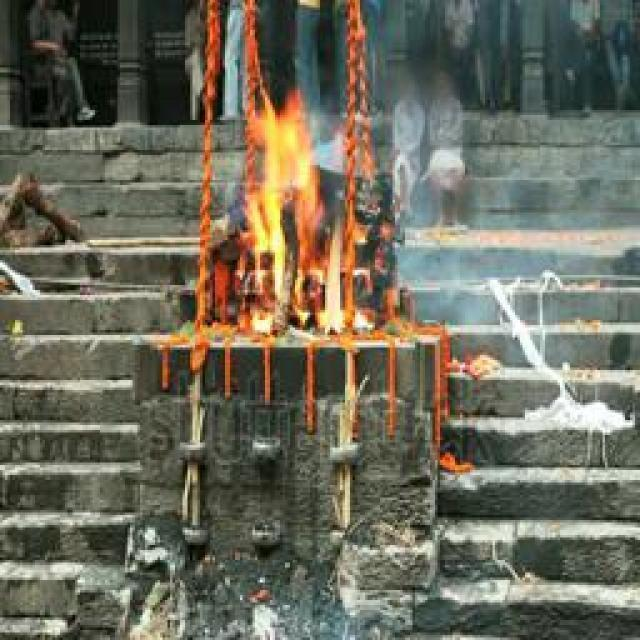Fire: (247, 97, 350, 336), (243, 98, 345, 336), (321, 298, 376, 334)
